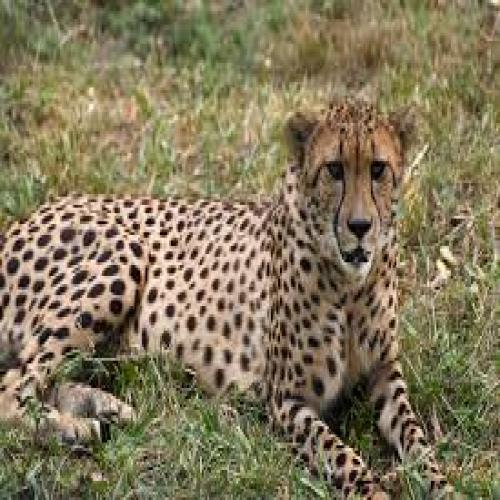cheetah-endangered: (2, 98, 454, 500)
